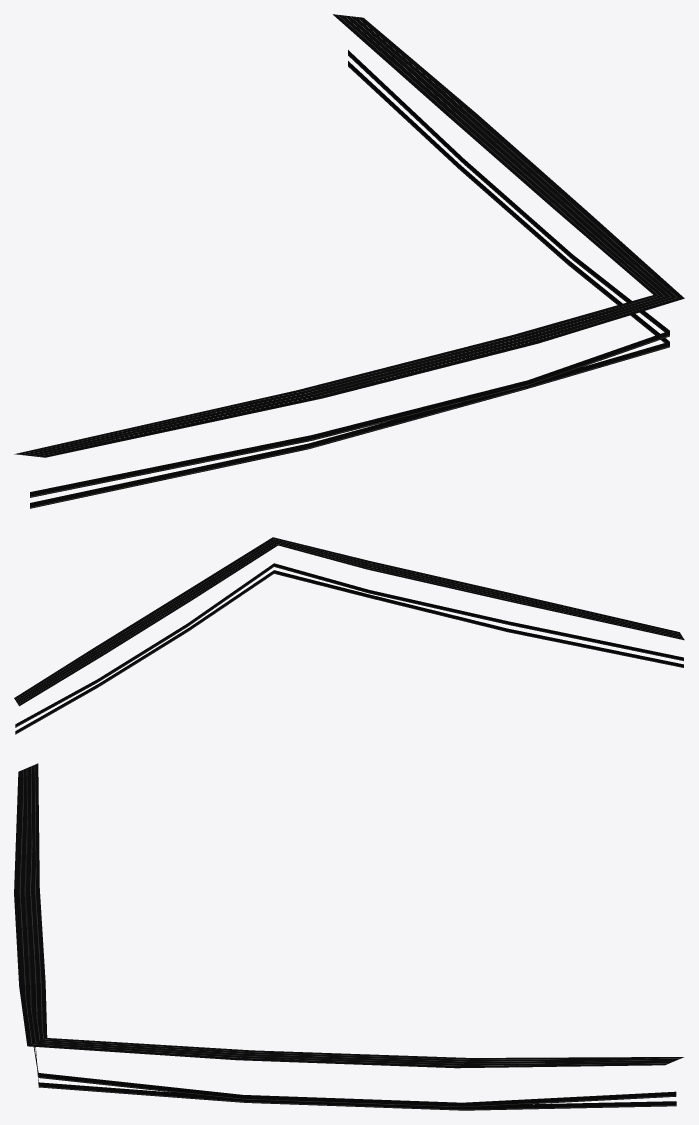
Rendered from vgstwires23_lvs.obj.
The picture shows the model from 3 angles, top to bottom: view 1: azimuth 30°, elevation 25°; view 2: azimuth 150°, elevation 25°; view 3: azimuth 270°, elevation 25°; orthographic projection. The views are drawn at different scales.
Visible parts, largest first — view 1: vgstwires23_lvs; view 2: vgstwires23_lvs; view 3: vgstwires23_lvs.
Part boxes in pixels (x1,y1,x2,y2): vgstwires23_lvs: (14,14,684,508); vgstwires23_lvs: (14,537,684,734); vgstwires23_lvs: (14,763,683,1110).
Bounding box in the file's own units: 65.8 × 5.61 × 62.
Materials: 1 (1 with a texture image).
